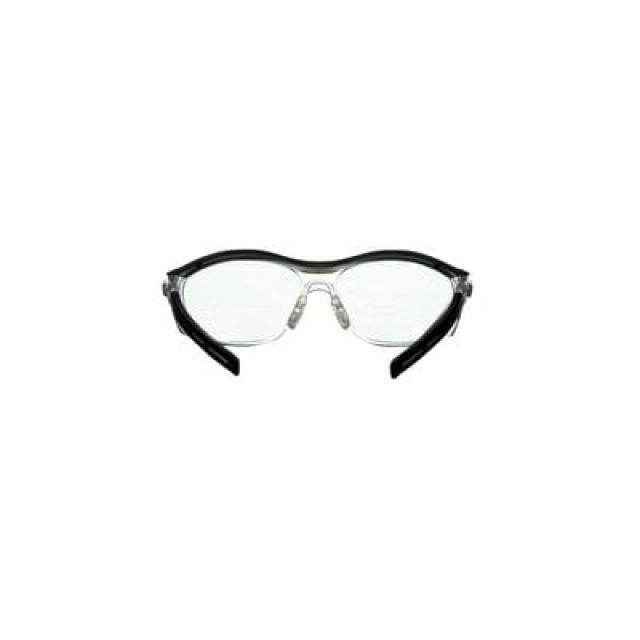Protective Glasses: (136, 236, 498, 394)
